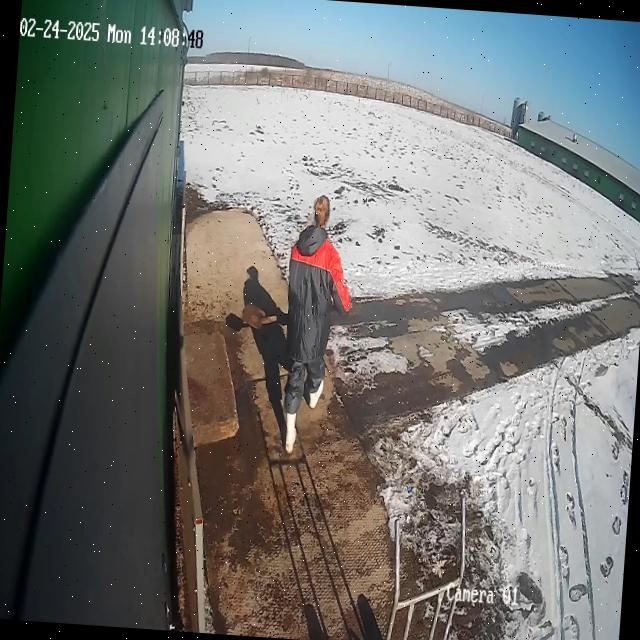Red uniform: (276, 224, 357, 421)
